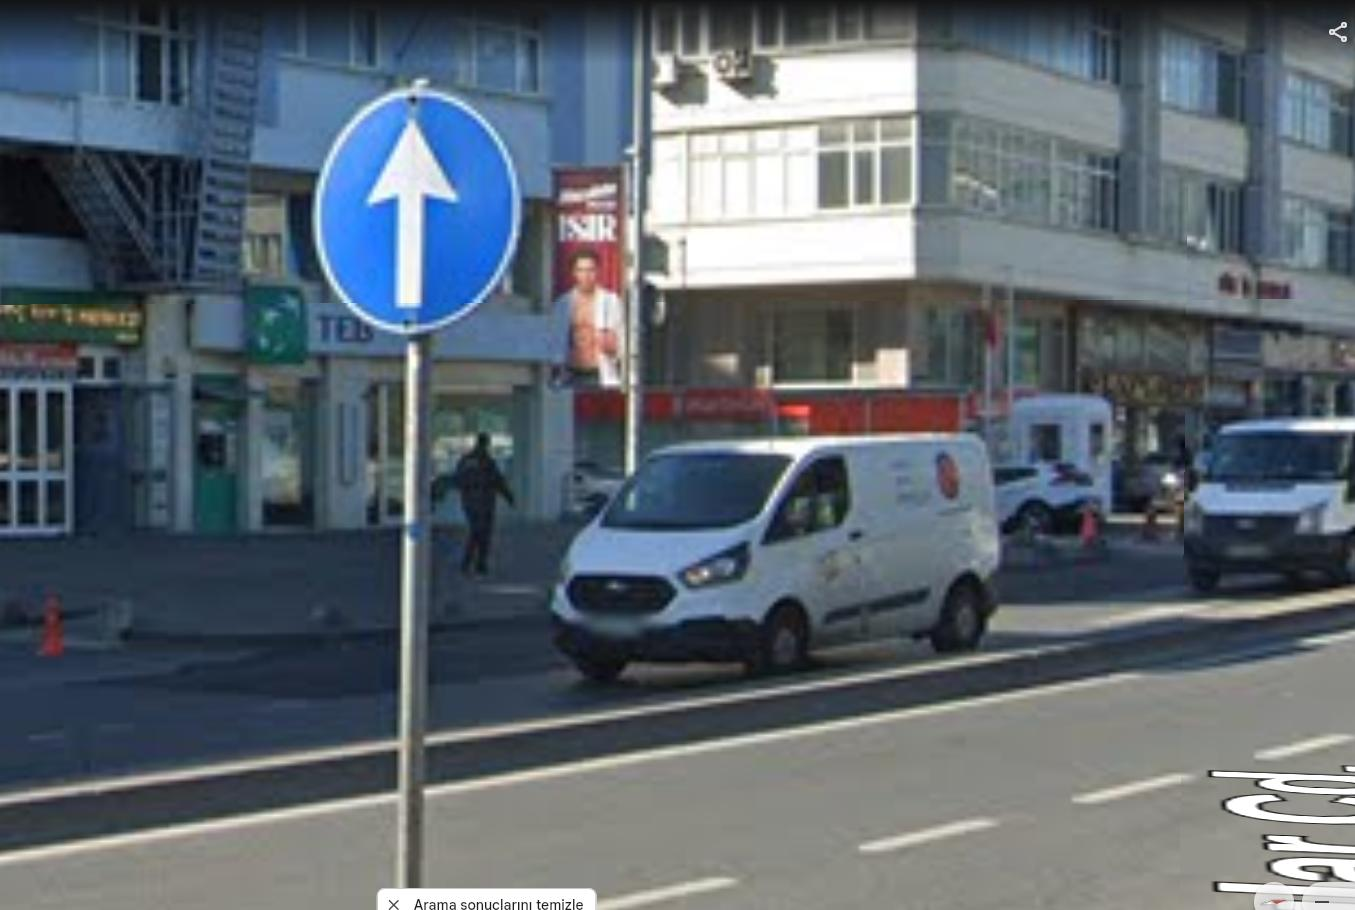forward: (313, 85, 511, 320)
